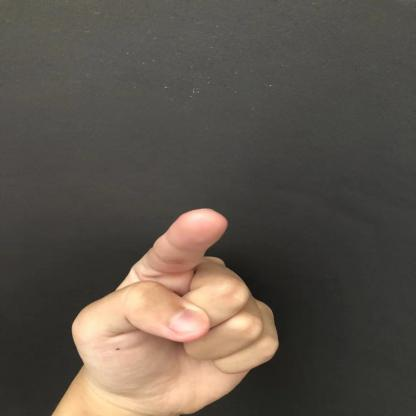finger_point: (153, 182, 226, 289)
